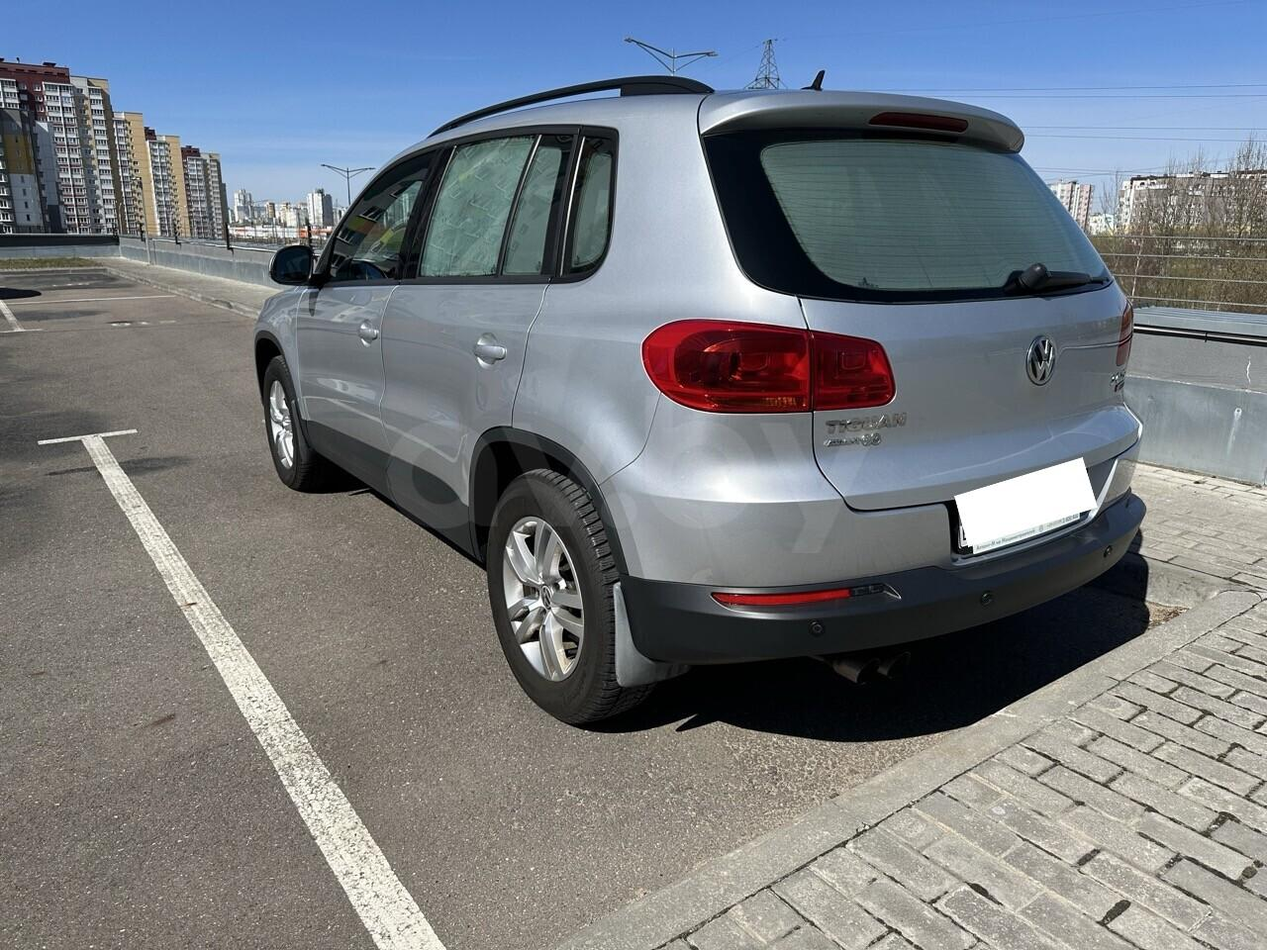Tiguan_2011-2018: (252, 88, 1149, 717)
